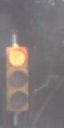Red: (4, 41, 30, 115)
